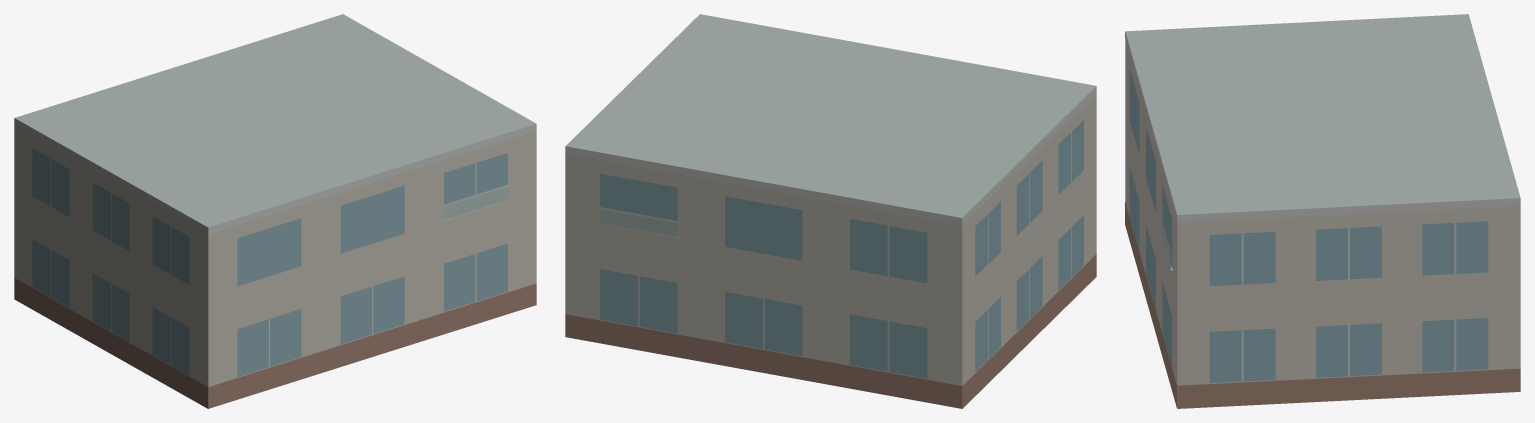
File: survey-upis-32814910.glb
The picture shows the model from 3 angles, left to right: view 1: azimuth 30°, elevation 25°; view 2: azimuth 150°, elevation 25°; view 3: azimuth 270°, elevation 25°; orthographic projection. The views are drawn at different scales.
Parts seen in each view (by area): view 1: survey-upis-32814910.tmp; view 2: survey-upis-32814910.tmp; view 3: survey-upis-32814910.tmp.
Part boxes in pixels (x1=…): survey-upis-32814910.tmp: x1=14, y1=14, x2=536, y2=408; survey-upis-32814910.tmp: x1=565, y1=14, x2=1096, y2=408; survey-upis-32814910.tmp: x1=1125, y1=14, x2=1520, y2=408.
Size of the model in its own units: 13.59 by 6.1 by 11.29.
